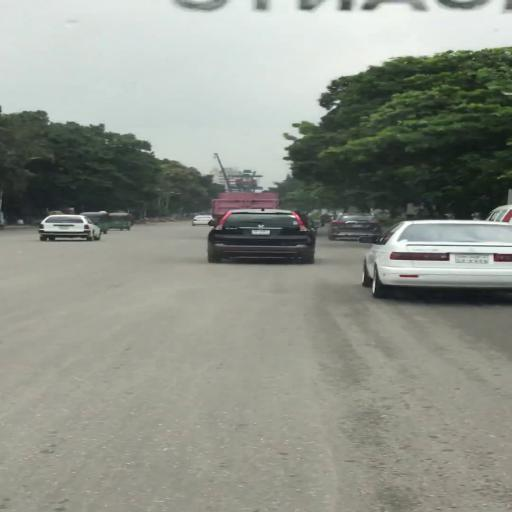car: (374, 223, 512, 298), (192, 216, 212, 228)
suv: (208, 209, 321, 266), (38, 215, 102, 242), (328, 213, 381, 243)
three wheelers (CNG): (107, 213, 134, 233)
